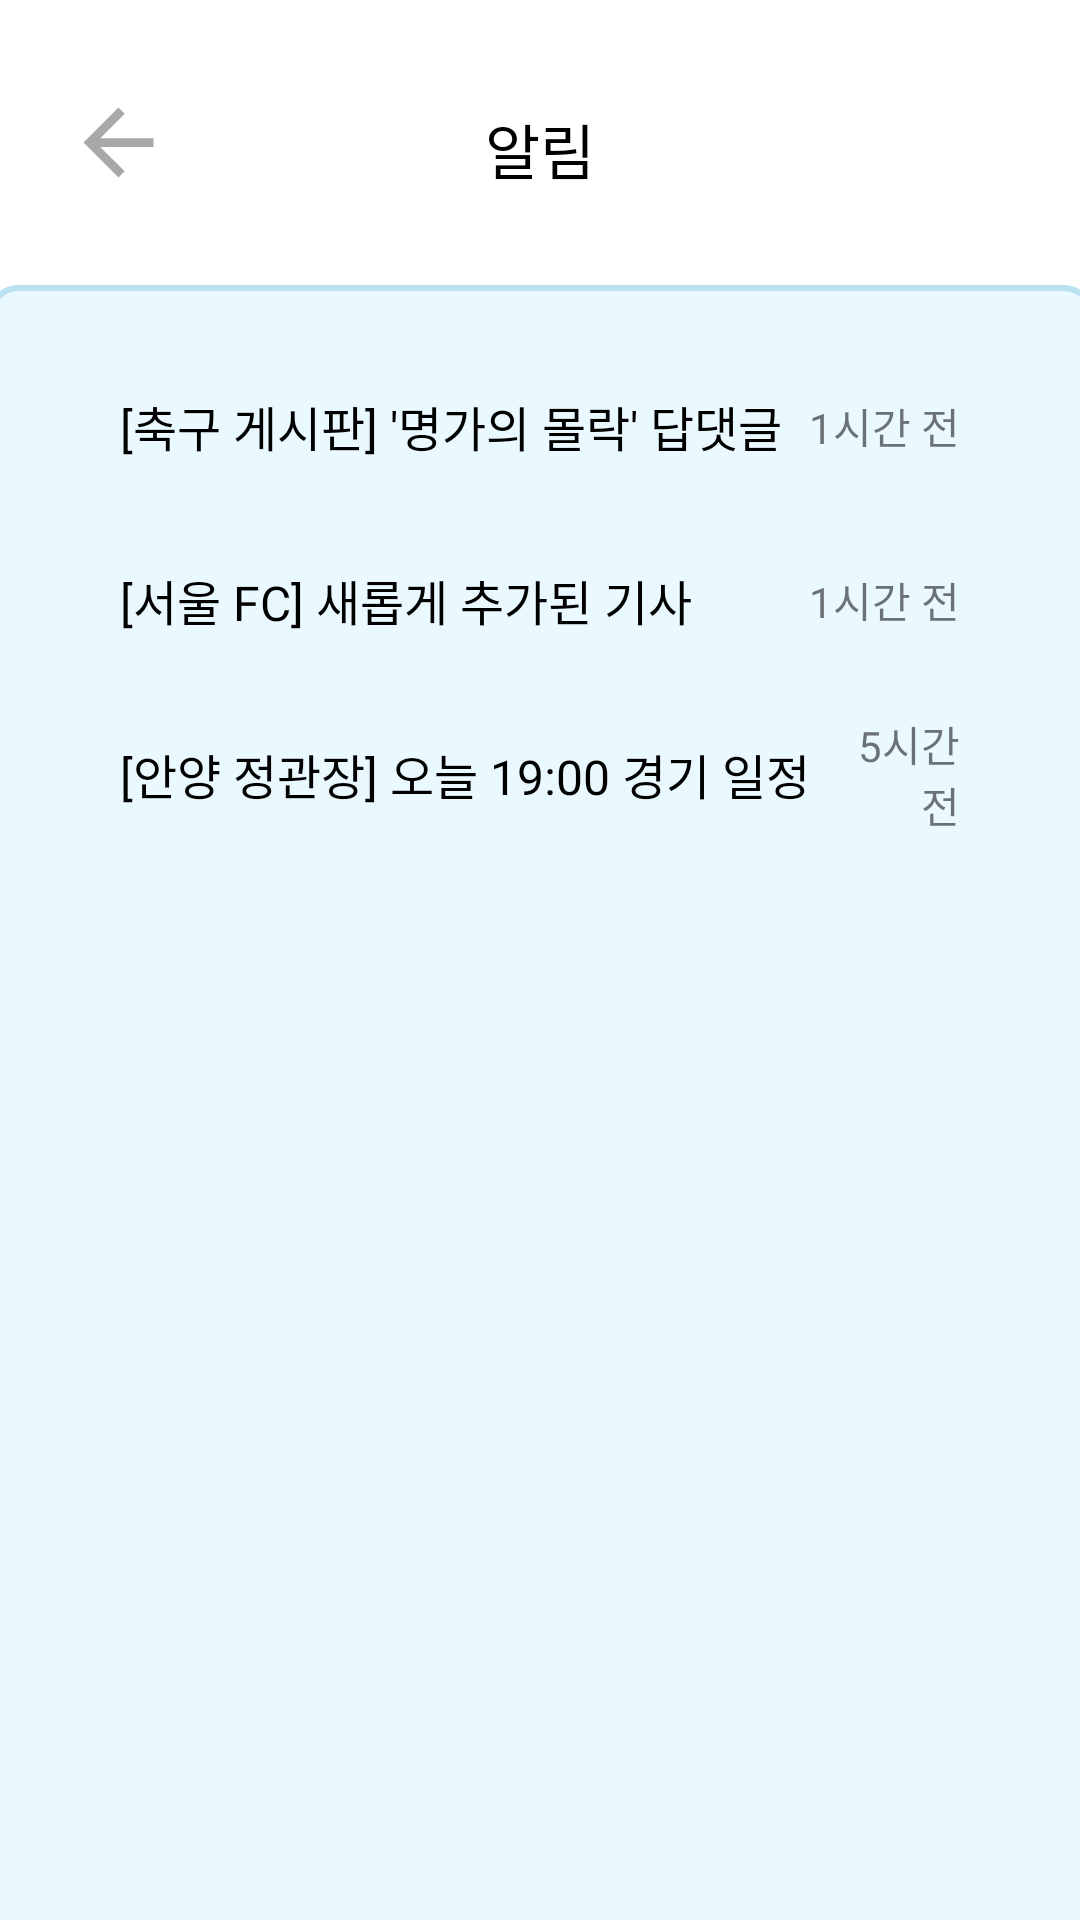

Where icons sit on this 1080x1920 app screen, as [left=x1, top=y1, right=x2, bottom=y2]:
arrow back: [left=84, top=108, right=154, bottom=177]
